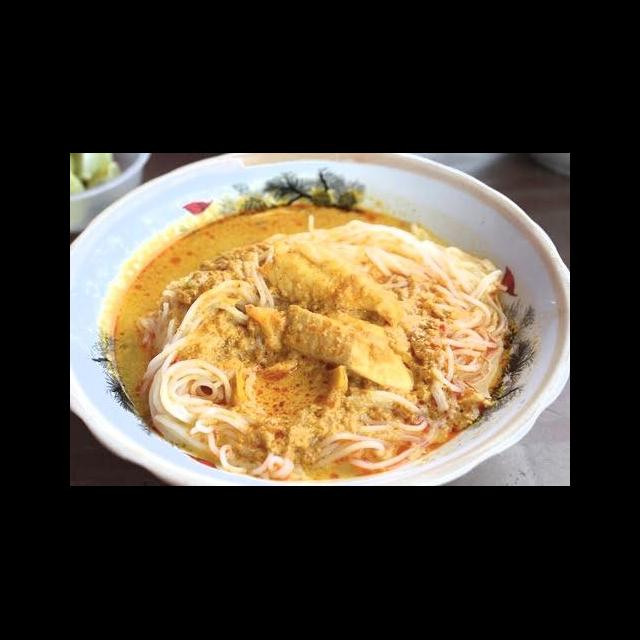bun: (341, 214, 514, 410), (141, 272, 280, 479)
bun ca: (91, 169, 519, 468)
ca: (255, 238, 408, 332), (280, 302, 422, 396)
